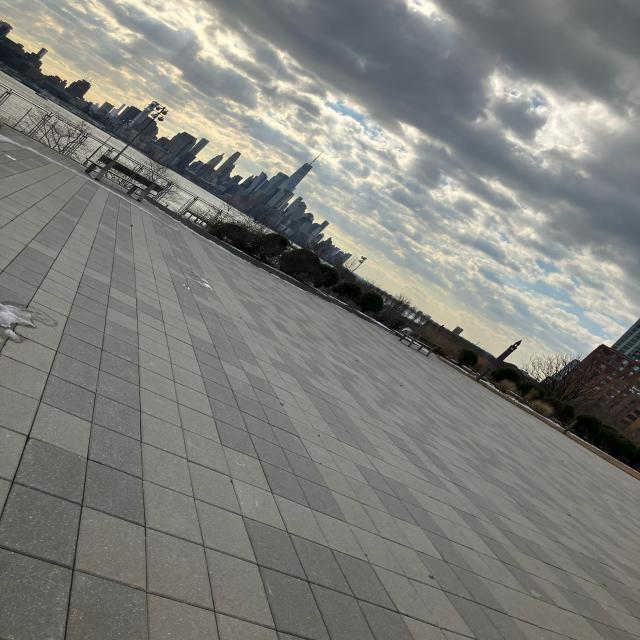WTC: (279, 149, 329, 191)
